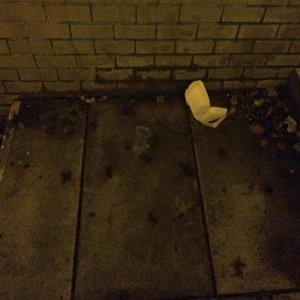plastic: (180, 78, 241, 138), (128, 116, 157, 161)
